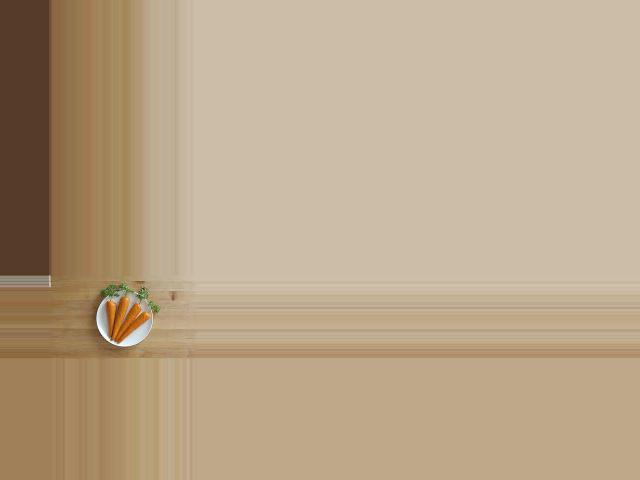carrot: (118, 308, 152, 345)
